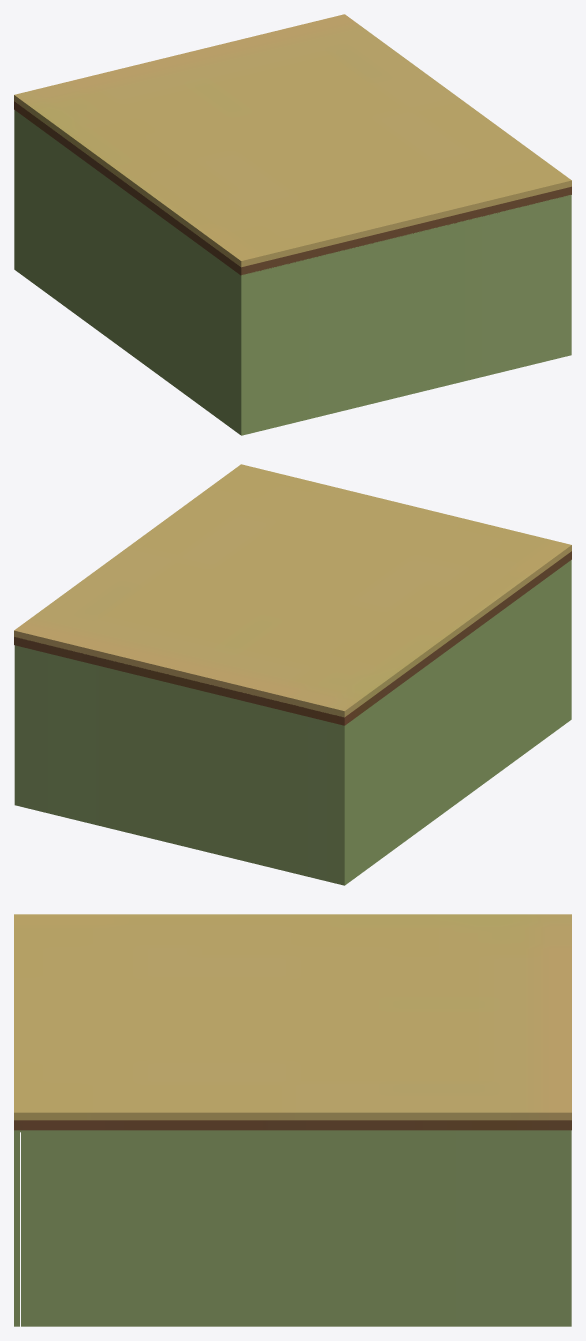
Rendered from classroom.lod.glb.
3 renders of one model, top to bottom at view 1: azimuth 30°, elevation 25°; view 2: azimuth 150°, elevation 25°; view 3: azimuth 270°, elevation 25°, orthographic. The views are drawn at different scales.
Parts seen in each view (by area): view 1: Object_2; view 2: Object_2; view 3: Object_2.
Boxes of the visible parts, <box> form: Object_2: <box>14,14,571,435</box>; Object_2: <box>14,464,571,885</box>; Object_2: <box>14,914,571,1326</box>.
Size of the model in its own units: 21.2 by 10.69 by 25.22.
1 material, 1 textured.
